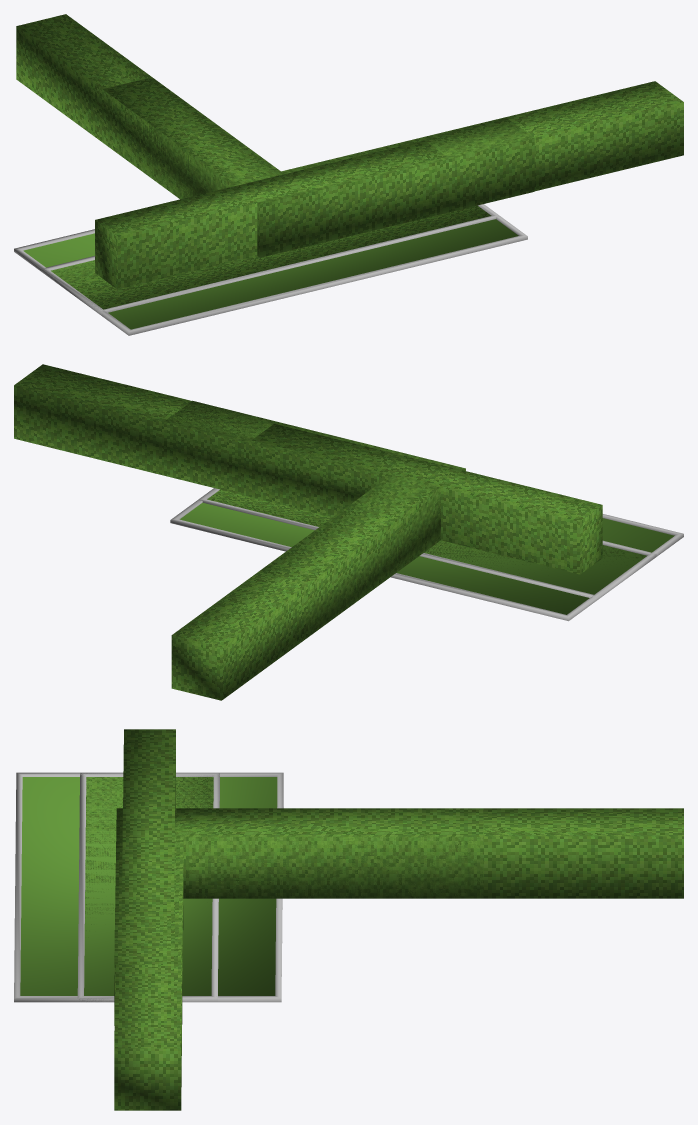
File: houseGrass-01.fbx
3 views of the same model, one above another, from view 1: azimuth 30°, elevation 25°; view 2: azimuth 150°, elevation 25°; view 3: azimuth 270°, elevation 25° (orthographic). The views are drawn at different scales.
Parts seen in each view (by area): view 1: WallGrass-02, WallGrass-03, WallGrass-04, Grass-01, Grass-02; view 2: WallGrass-02, WallGrass-04, Grass-01, WallGrass-03, Grass-02; view 3: WallGrass-02, Grass-01, WallGrass-03, WallGrass-04, Grass-02.
Part boxes in pixels (bbox=[...]): WallGrass-02: bbox=[16, 14, 683, 255]; WallGrass-03: bbox=[103, 77, 534, 257]; WallGrass-04: bbox=[95, 140, 446, 289]; Grass-01: bbox=[14, 205, 527, 335]; Grass-02: bbox=[41, 204, 499, 315]; WallGrass-02: bbox=[14, 364, 465, 700]; WallGrass-04: bbox=[252, 424, 602, 574]; Grass-01: bbox=[170, 490, 683, 621]; WallGrass-03: bbox=[164, 400, 465, 636]; Grass-02: bbox=[198, 488, 656, 597]; WallGrass-02: bbox=[114, 808, 683, 1110]; Grass-01: bbox=[14, 772, 283, 1002]; WallGrass-03: bbox=[114, 808, 483, 1025]; WallGrass-04: bbox=[121, 729, 175, 915]; Grass-02: bbox=[77, 772, 219, 1002].
Bounding box in the file's own units: 12 × 1.1 × 10.02.
